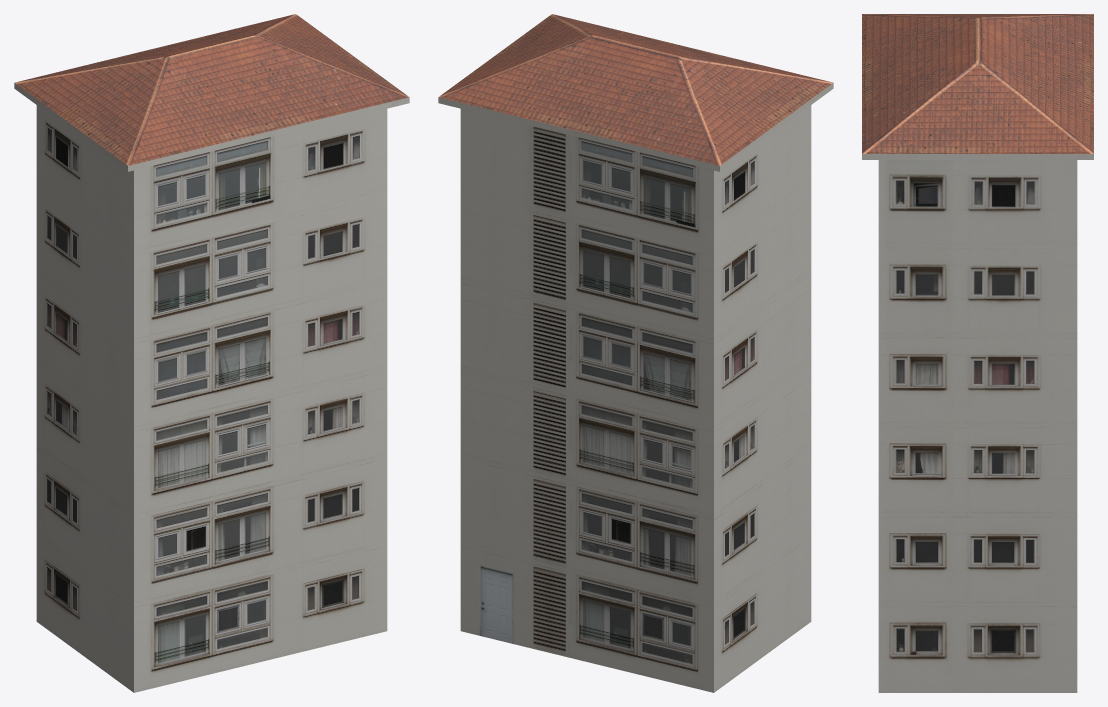
3 views of the same model, side by side, from view 1: azimuth 30°, elevation 25°; view 2: azimuth 150°, elevation 25°; view 3: azimuth 270°, elevation 25° (orthographic).
Visible parts, largest first — view 1: Building_Building.002; view 2: Building_Building.002; view 3: Building_Building.002.
Boxes of the visible parts, bbox=[...] form: Building_Building.002: bbox=[14, 14, 409, 692]; Building_Building.002: bbox=[438, 14, 833, 692]; Building_Building.002: bbox=[862, 14, 1093, 692].
Size of the model in its own units: 2.3 by 4.54 by 1.61.
